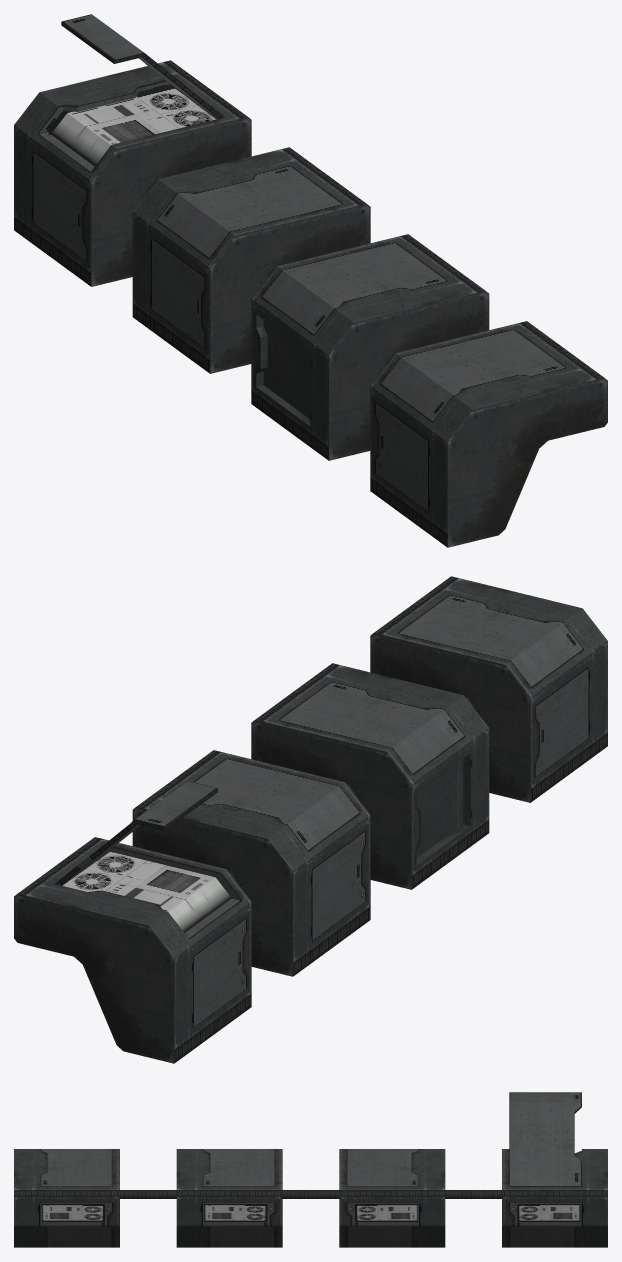
File: ac-unit.obj
3 renders of one model, top to bottom at view 1: azimuth 30°, elevation 25°; view 2: azimuth 150°, elevation 25°; view 3: azimuth 270°, elevation 25°, orthographic. The views are drawn at different scales.
Visible parts, largest first — view 1: Mesh2 NM_AC_Units1 Model, Mesh3 NM_AC_Units1 Model, Mesh1 Component_1_1 NM_AC_Units1 Model; view 2: Mesh2 NM_AC_Units1 Model, Mesh3 NM_AC_Units1 Model, Mesh1 Component_1_1 NM_AC_Units1 Model; view 3: Mesh2 NM_AC_Units1 Model, Mesh3 NM_AC_Units1 Model, Mesh1 Component_1_1 NM_AC_Units1 Model.
Part boxes in pixels (x1=…): Mesh2 NM_AC_Units1 Model: x1=132, y1=147, x2=607, y2=547; Mesh3 NM_AC_Units1 Model: x1=14, y1=60, x2=251, y2=286; Mesh1 Component_1_1 NM_AC_Units1 Model: x1=61, y1=14, x2=224, y2=118; Mesh2 NM_AC_Units1 Model: x1=132, y1=576, x2=607, y2=976; Mesh3 NM_AC_Units1 Model: x1=14, y1=837, x2=251, y2=1063; Mesh1 Component_1_1 NM_AC_Units1 Model: x1=55, y1=781, x2=217, y2=885; Mesh2 NM_AC_Units1 Model: x1=14, y1=1149, x2=445, y2=1247; Mesh3 NM_AC_Units1 Model: x1=445, y1=1149, x2=607, y2=1247; Mesh1 Component_1_1 NM_AC_Units1 Model: x1=509, y1=1092, x2=581, y2=1186.
Size of the model in its own units: 1.75 by 2.25 by 8.2.
